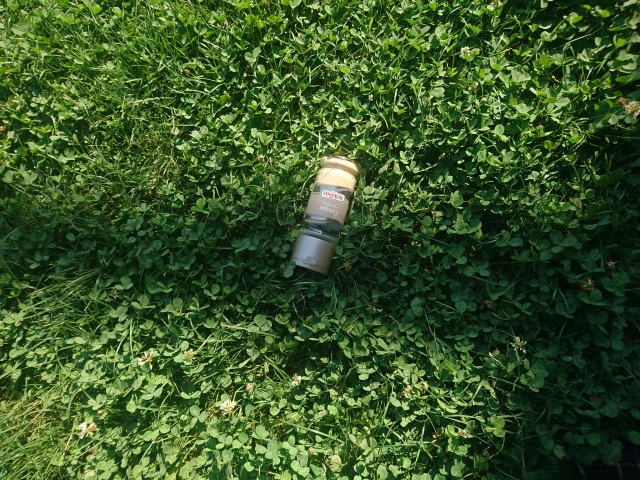Kotanyi Garlic Granules 70g: (286, 152, 363, 278)
